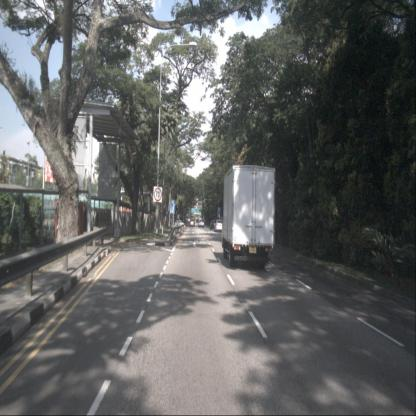human-pedestrian-adult: (92, 207, 99, 240)
vehicle-car: (214, 219, 224, 232), (174, 220, 186, 229), (210, 221, 216, 231), (198, 219, 204, 228), (189, 219, 195, 228)
vehicle-truck: (222, 165, 276, 269)
